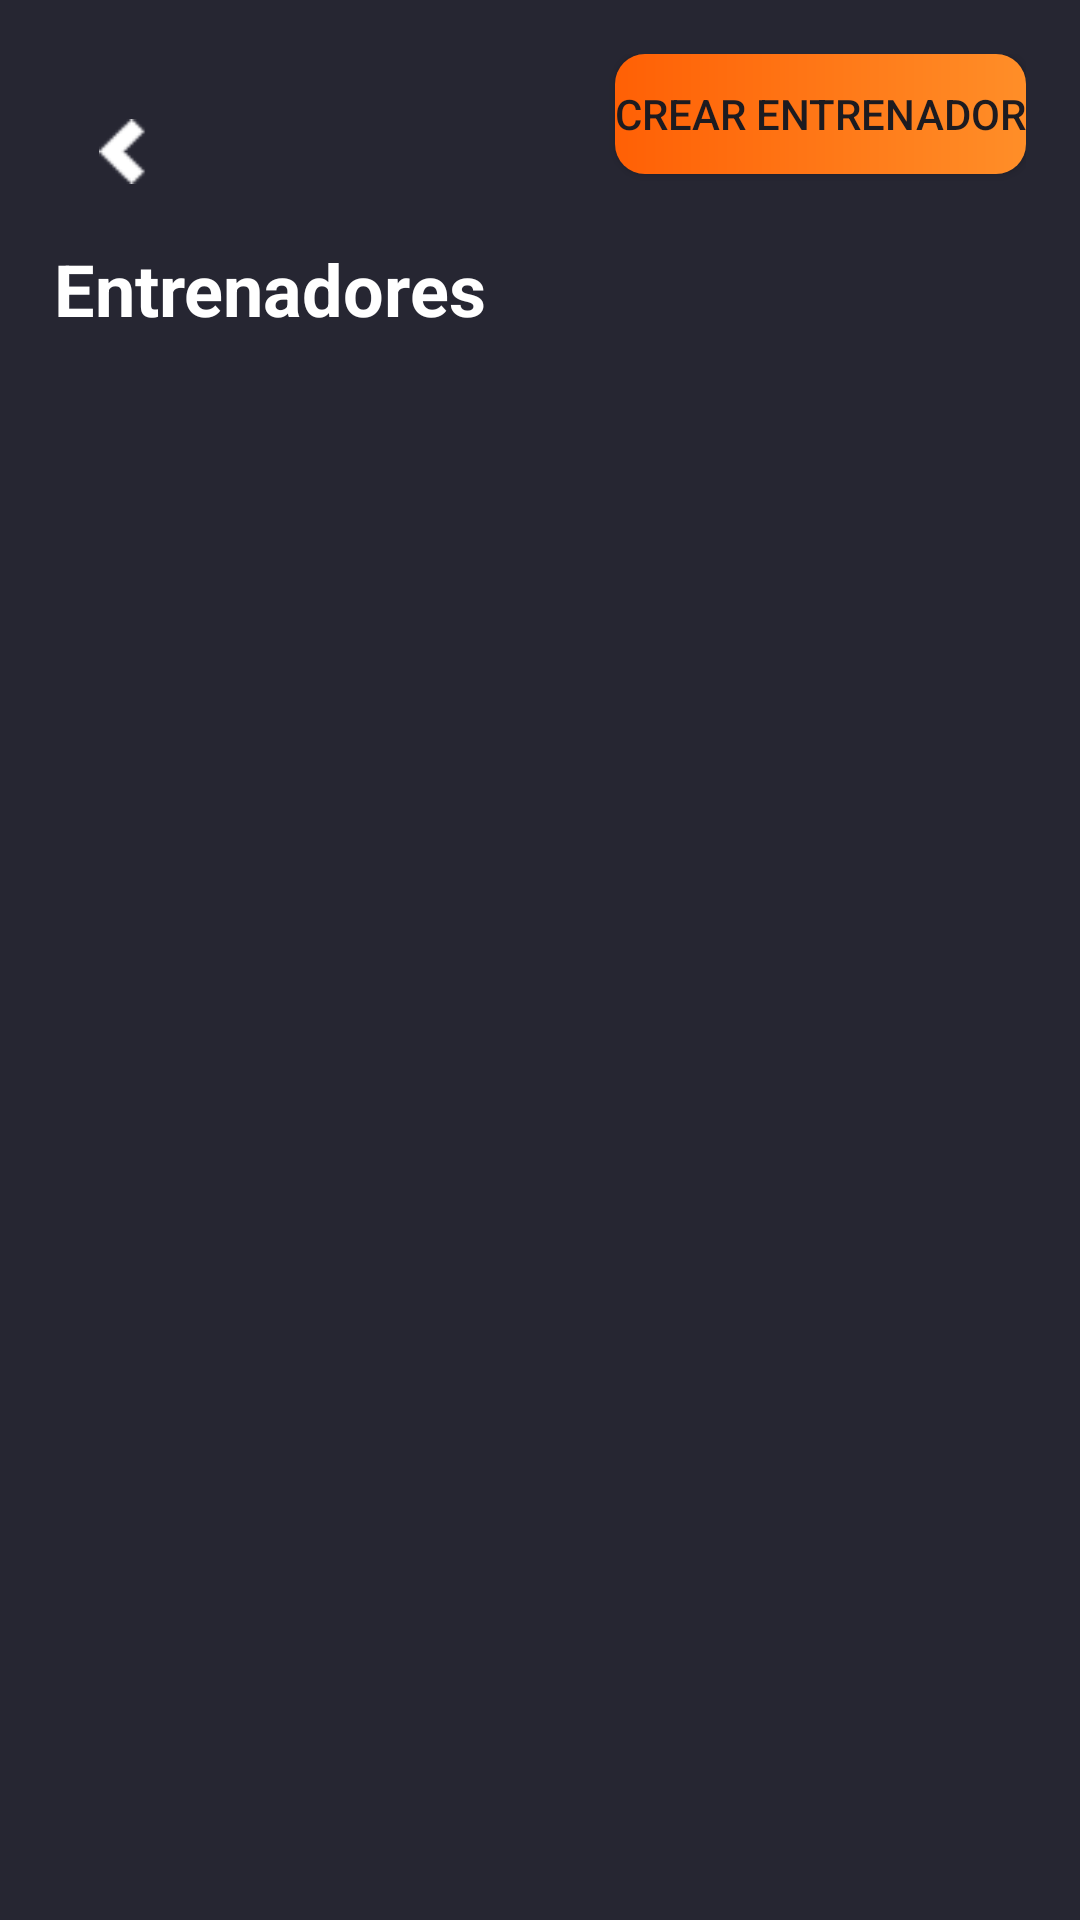

Named icons in this screenshot (1080x1920) and their centers, [x,y]:
flecha volver: [122,151]
